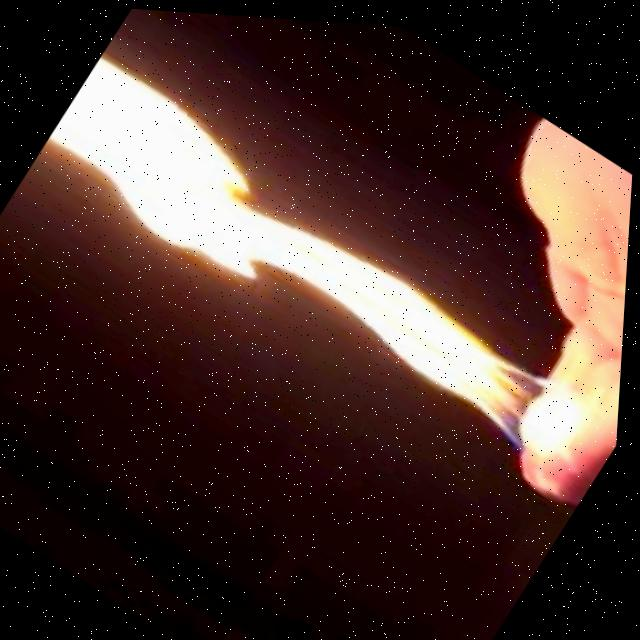Fire: (24, 37, 632, 479)
